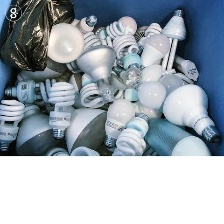light_bulb: (155, 76, 223, 145), (138, 114, 216, 165), (58, 101, 112, 158), (13, 99, 61, 158), (11, 43, 70, 90), (74, 43, 120, 95), (158, 6, 190, 79), (2, 78, 73, 107), (102, 93, 136, 149), (41, 22, 83, 67), (114, 111, 152, 158), (133, 31, 173, 74), (44, 78, 74, 135), (109, 28, 143, 72), (135, 76, 173, 115), (0, 98, 25, 154), (153, 71, 189, 108), (61, 13, 99, 46), (78, 77, 112, 113), (169, 50, 203, 85), (135, 16, 165, 50), (65, 144, 106, 166), (42, 142, 73, 171), (112, 11, 137, 46), (112, 65, 144, 91), (96, 19, 125, 41)
